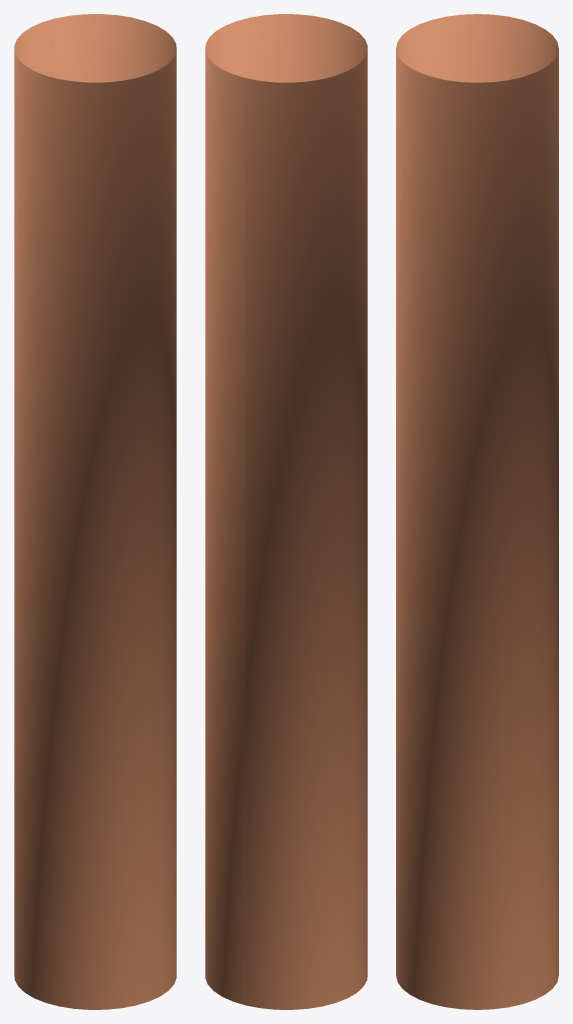
Rendered from Air Vent Pipe.fbx.
The picture shows the model from 3 angles, left to right: view 1: azimuth 30°, elevation 25°; view 2: azimuth 150°, elevation 25°; view 3: azimuth 270°, elevation 25°; orthographic projection.
Parts seen in each view (by area): view 1: Tank Inlet Pipe.003; view 2: Tank Inlet Pipe.003; view 3: Tank Inlet Pipe.003.
Boxes of the visible parts, x1,y1,x2,y2 form: Tank Inlet Pipe.003: (14,14,176,1009); Tank Inlet Pipe.003: (205,14,367,1009); Tank Inlet Pipe.003: (396,14,558,1009).
Size of the model in its own units: 1.7 by 10.68 by 1.7.
